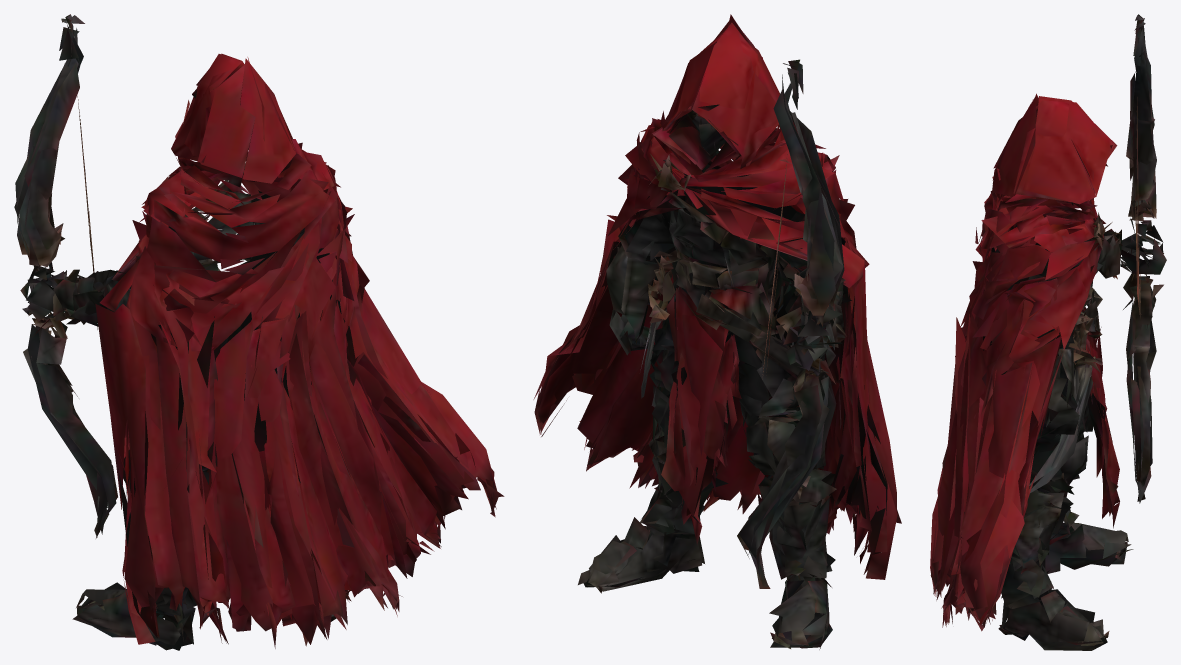
File: horde-archers.lod1.glb
The picture shows the model from 3 angles, left to right: view 1: azimuth 30°, elevation 25°; view 2: azimuth 150°, elevation 25°; view 3: azimuth 270°, elevation 25°; orthographic projection. The views are drawn at different scales.
Visible parts, largest first — view 1: chaos-archers; view 2: chaos-archers; view 3: chaos-archers.
Boxes of the visible parts, x1,y1,x2,y2 form: chaos-archers: [14, 14, 504, 650]; chaos-archers: [533, 14, 901, 649]; chaos-archers: [930, 14, 1166, 650].
Bounding box in the file's own units: 0.3449 × 0.5019 × 0.2013.
Materials: 1 (1 with a texture image).
